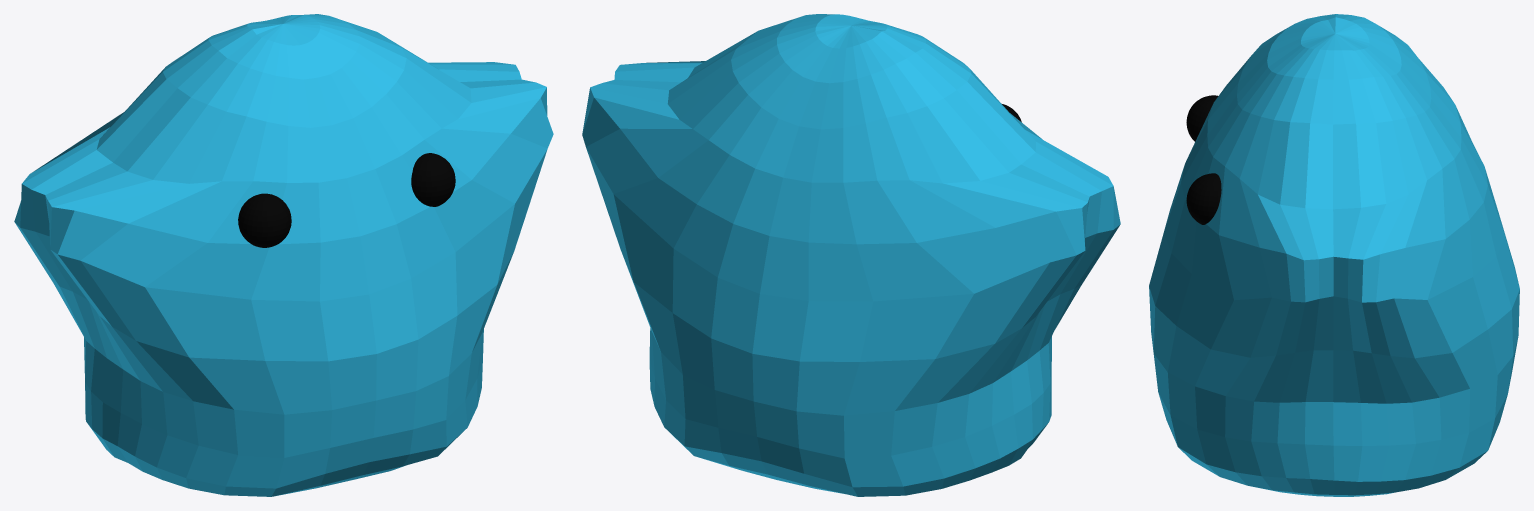
The model's file is Bob.fbx.
3 views of the same model, side by side, from view 1: azimuth 30°, elevation 25°; view 2: azimuth 150°, elevation 25°; view 3: azimuth 270°, elevation 25° (orthographic). The views are drawn at different scales.
Visible parts, largest first — view 1: Bob, Eye; view 2: Bob; view 3: Bob, Eye.
Boxes of the visible parts, x1,y1,x2,y2 form: Bob: (14,14,553,496); Eye: (238,153,455,247); Bob: (582,14,1120,496); Bob: (1149,14,1519,496); Eye: (1186,95,1221,224).
Size of the model in its own units: 4.3 by 3.5 by 2.85.
